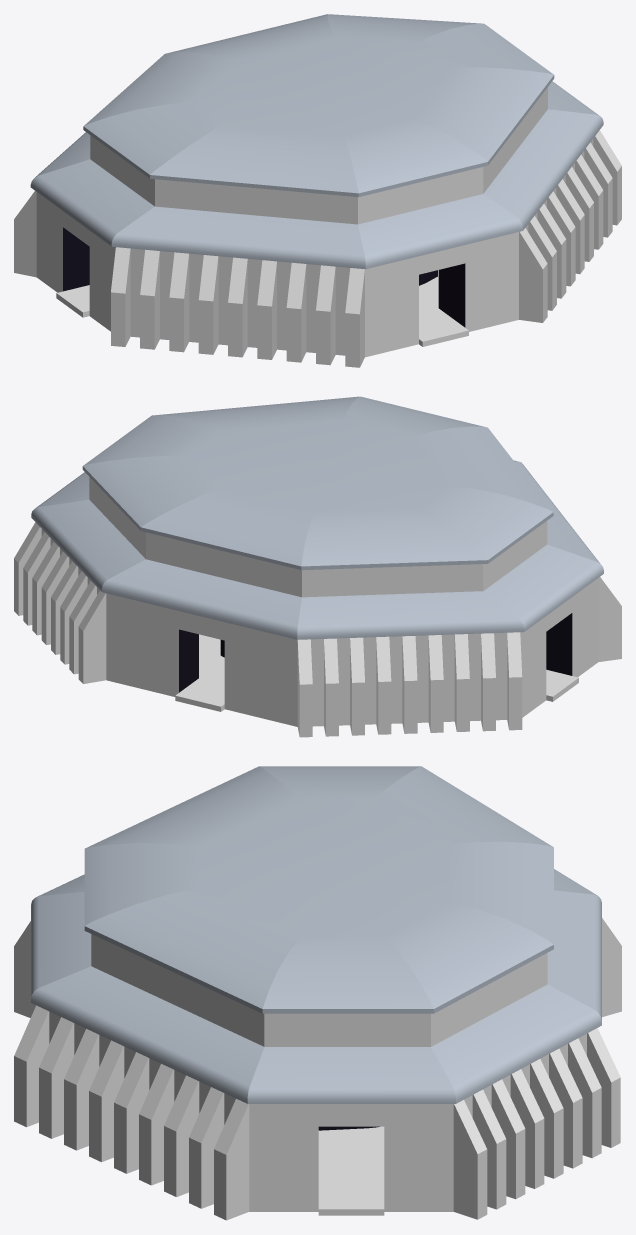
Rendered from CEON_SPACE_NAV_PLAN_CENTER.glb.
The picture shows the model from 3 angles, top to bottom: view 1: azimuth 30°, elevation 25°; view 2: azimuth 150°, elevation 25°; view 3: azimuth 270°, elevation 25°; orthographic projection. The views are drawn at different scales.
Visible parts, largest first — view 1: SPACE NAVIGATION PLANNING CENTER; view 2: SPACE NAVIGATION PLANNING CENTER; view 3: SPACE NAVIGATION PLANNING CENTER.
Part boxes in pixels (box(x1,y1,x2,y2)): SPACE NAVIGATION PLANNING CENTER: box(14, 14, 621, 367); SPACE NAVIGATION PLANNING CENTER: box(14, 396, 621, 737); SPACE NAVIGATION PLANNING CENTER: box(14, 766, 621, 1220).
Size of the model in its own units: 23.17 by 7.05 by 19.4.
